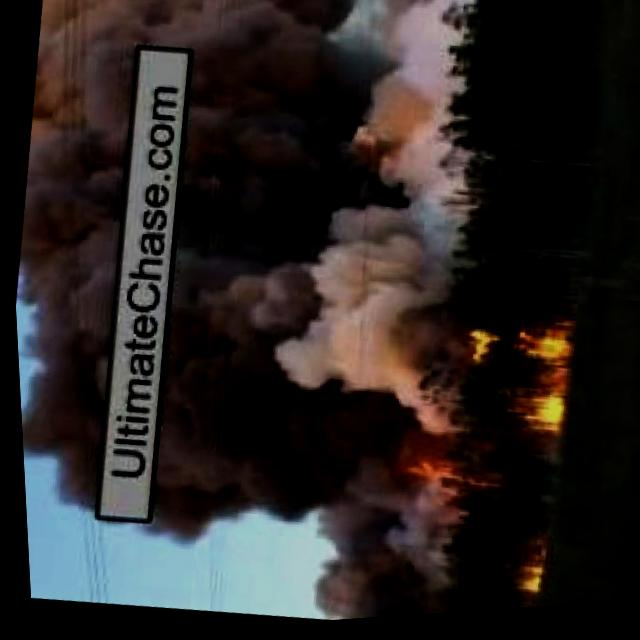helmet: (447, 318, 575, 445), (393, 453, 481, 494), (496, 540, 543, 606)
no_helmet: (110, 0, 486, 577), (0, 0, 159, 515)
